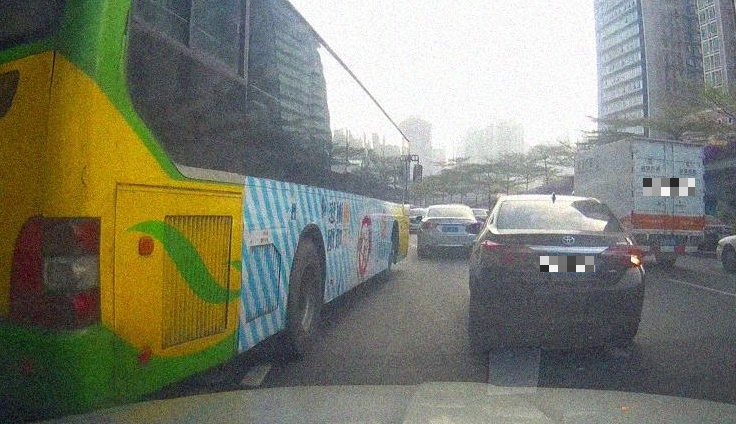L_light: (481, 240, 538, 267)
R_light: (598, 242, 645, 267)
T_light: (548, 200, 574, 205)
day-right: (479, 196, 645, 350)
plate_1: (540, 256, 595, 272)
plate_2: (643, 178, 695, 196)
